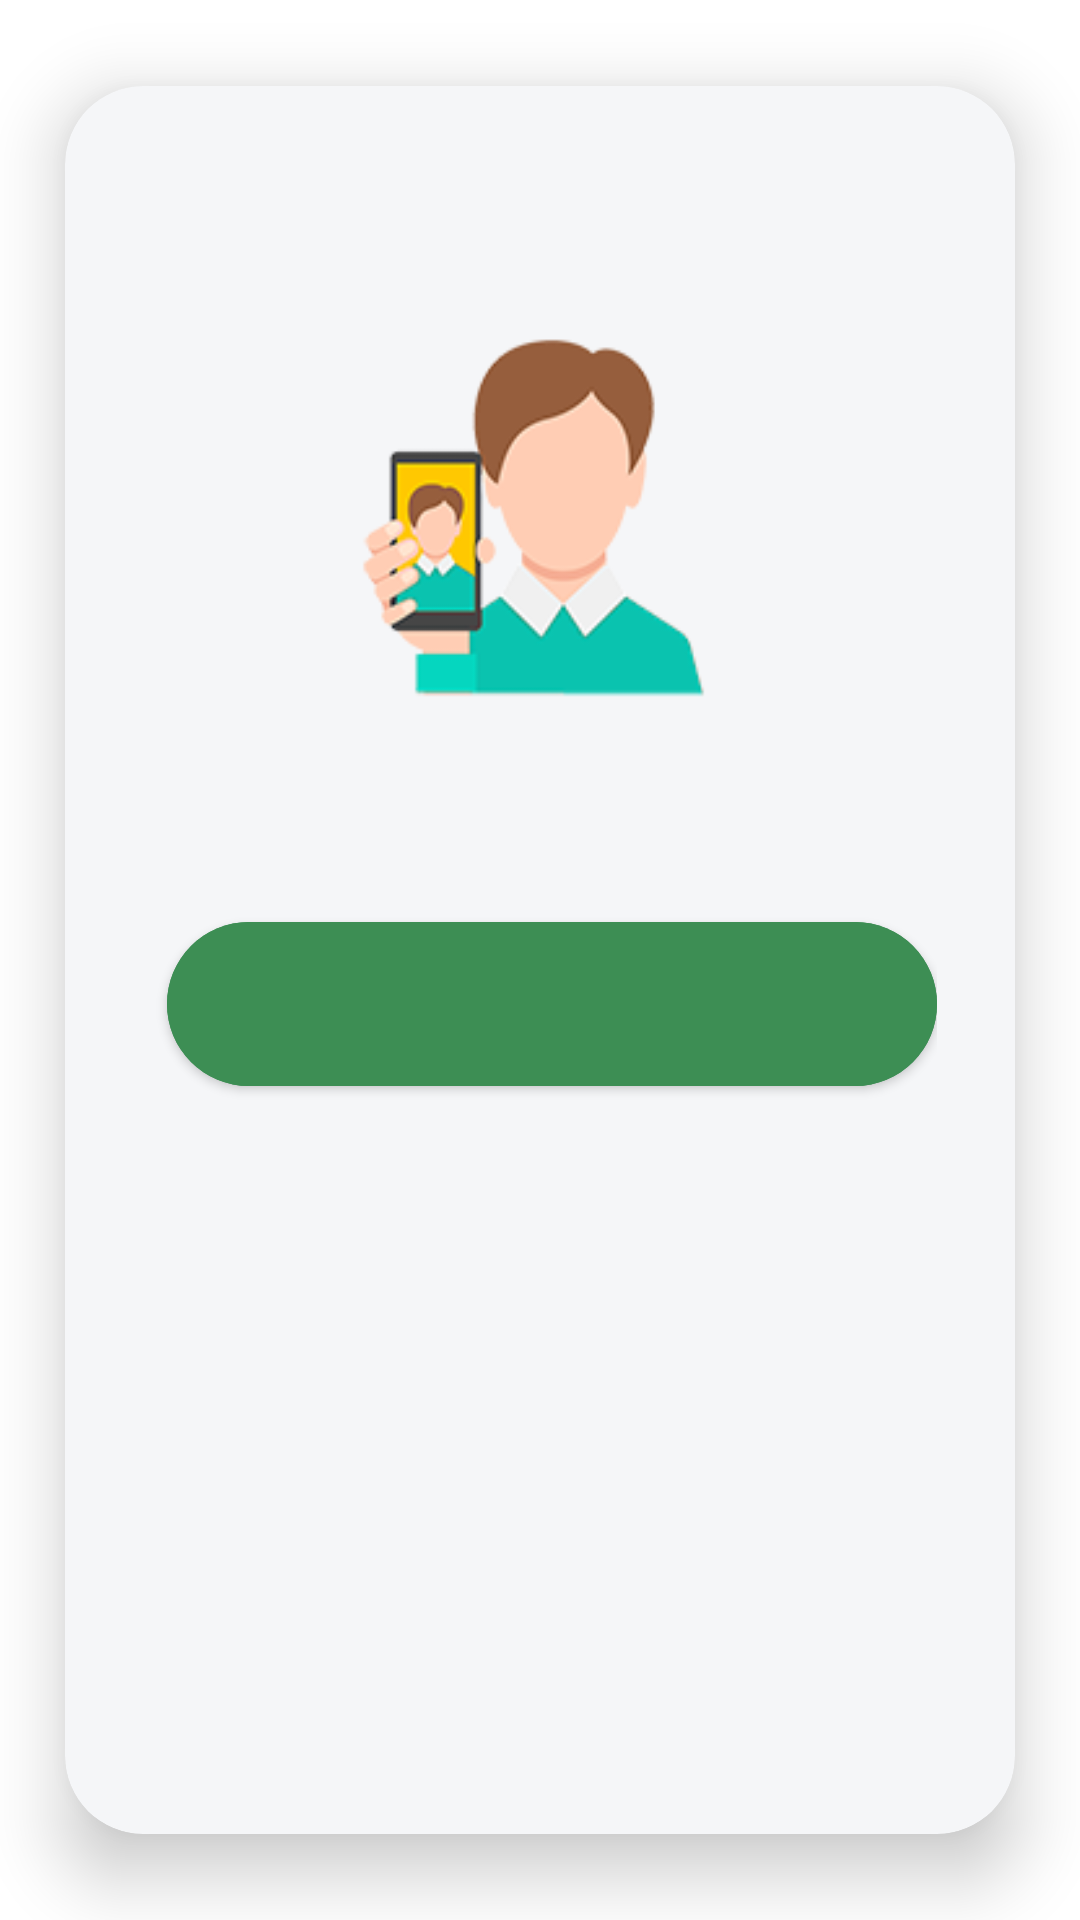

Icons on this 1080px×1920px Android screen, each with its box as detection(x1, y1, x2, y2):
selfie: detection(364, 339, 704, 696)
